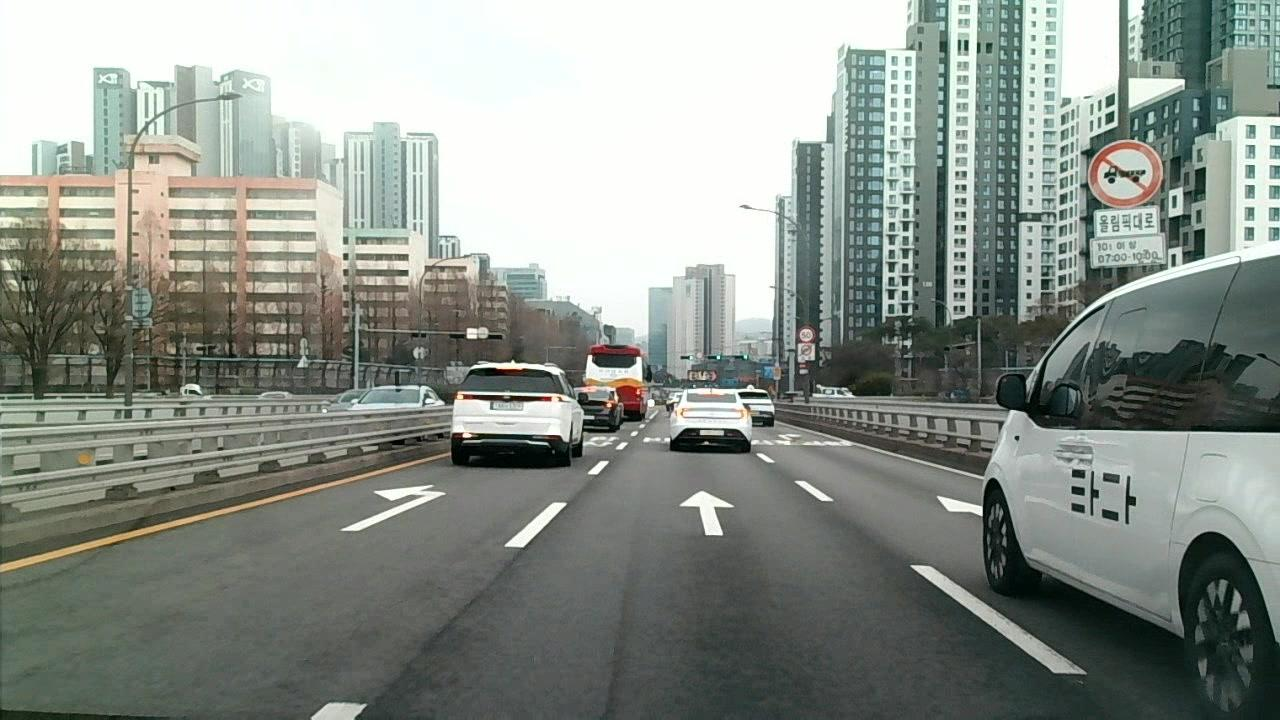vcrack: (370, 551, 524, 706)
